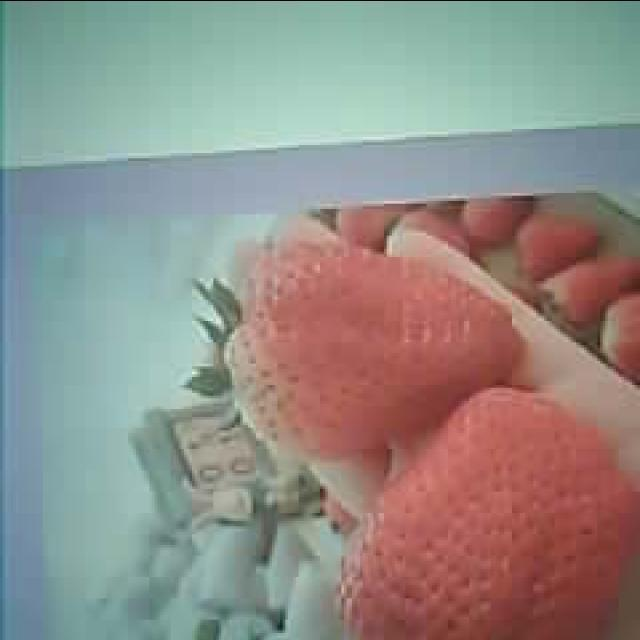ripe: (338, 390, 638, 640), (224, 240, 516, 454)
